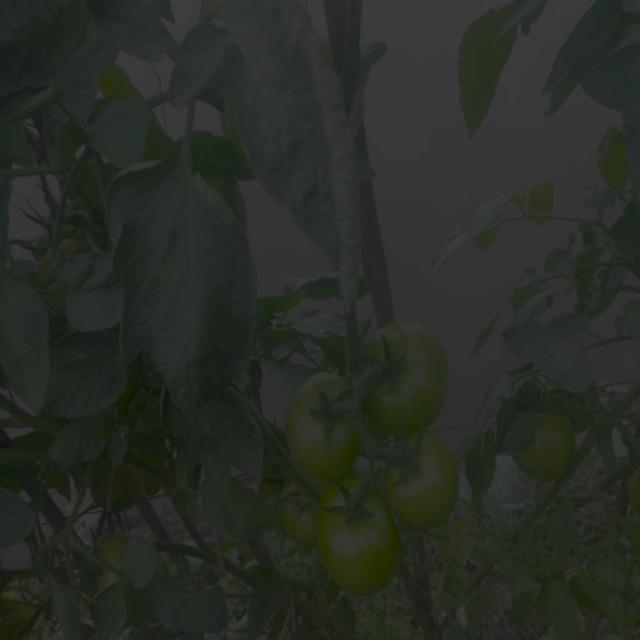tomato: (356, 327, 449, 433), (370, 420, 459, 524), (290, 369, 367, 477), (320, 471, 386, 592), (525, 405, 573, 485), (277, 481, 325, 548), (97, 464, 150, 513), (95, 522, 128, 560)
